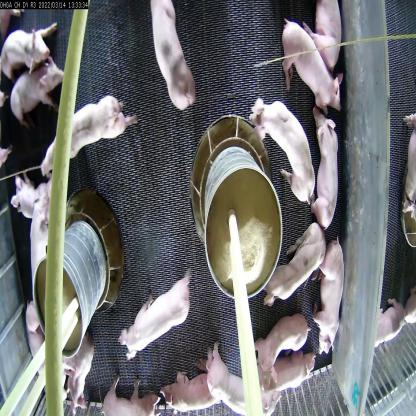Pig: (277, 11, 344, 120), (120, 267, 193, 361), (247, 99, 313, 202), (39, 99, 125, 170), (141, 0, 196, 110), (202, 346, 278, 415), (266, 222, 325, 307), (23, 174, 63, 285), (309, 110, 338, 236), (257, 312, 317, 372), (7, 64, 63, 128), (0, 23, 68, 75), (160, 366, 222, 416), (255, 351, 316, 400), (320, 238, 344, 361), (100, 382, 162, 416)
